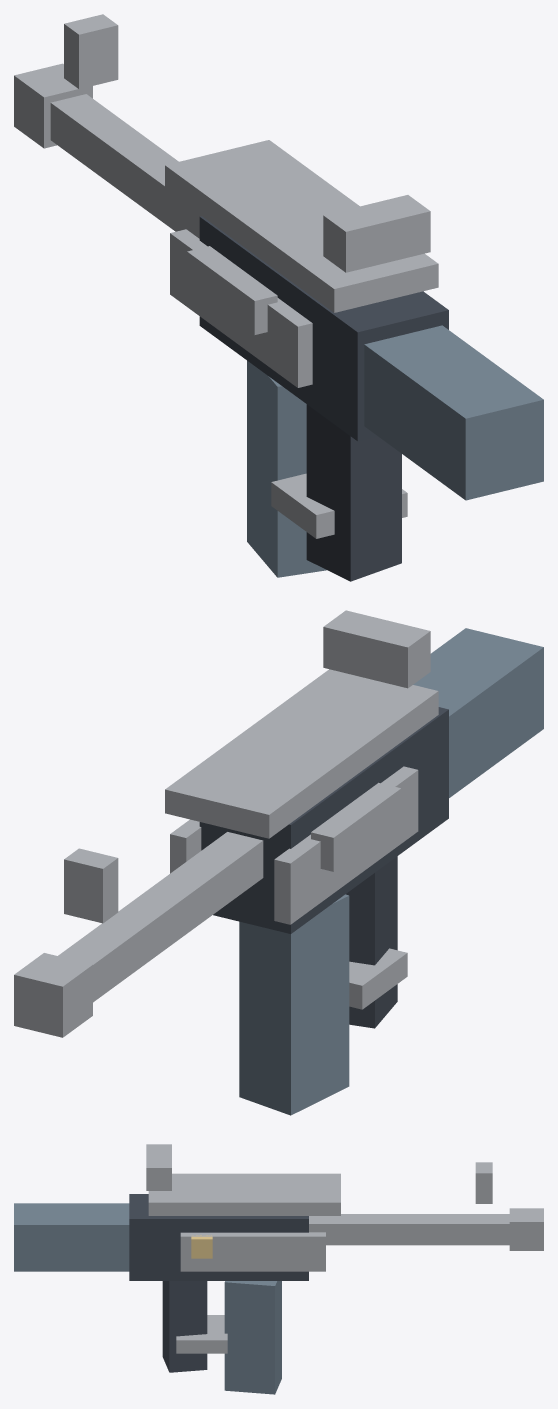
3 renders of one model, top to bottom at view 1: azimuth 30°, elevation 25°; view 2: azimuth 150°, elevation 25°; view 3: azimuth 270°, elevation 25°, orthographic. The views are drawn at different scales.
Visible parts, largest first — view 1: stock, top_rail, receiver, grip, magazine, barrel, side_panel_l, rear_sight, bolt, front_sight, muzzle, trigger_guard; view 2: top_rail, magazine, stock, barrel, receiver, side_panel_l, rear_sight, muzzle, grip, bolt, front_sight, trigger_guard (+1 smaller); view 3: stock, top_rail, receiver, magazine, barrel, side_panel_r, grip, muzzle, trigger_guard, rear_sight, front_sight, selector.
Part boxes in pixels (box(x1,y1,x2,y2)): stock: box(364, 325, 543, 500); top_rail: box(165, 140, 438, 312); receiver: box(199, 216, 448, 441); grip: box(306, 404, 401, 581); magazine: box(247, 360, 326, 577); barrel: box(50, 94, 201, 238); side_panel_l: box(170, 229, 312, 387); rear_sight: box(323, 195, 430, 272); bolt: box(187, 246, 277, 334); front_sight: box(64, 14, 118, 89); muzzle: box(14, 63, 92, 148); trigger_guard: box(271, 473, 407, 538); top_rail: box(165, 669, 438, 838); magazine: box(239, 894, 349, 1115); stock: box(413, 628, 543, 797); barrel: box(58, 832, 263, 1002); receiver: box(199, 707, 448, 933); side_panel_l: box(274, 766, 418, 924); rear_sight: box(323, 610, 430, 688); muzzle: box(14, 953, 92, 1037); grip: box(346, 856, 397, 1028); bolt: box(311, 782, 401, 871); front_sight: box(64, 848, 118, 923); trigger_guard: box(349, 948, 407, 1009); stock: box(14, 1203, 129, 1271); top_rail: box(148, 1173, 340, 1215); receiver: box(129, 1194, 308, 1280); magazine: box(224, 1281, 281, 1394); barrel: box(309, 1214, 509, 1245); side_panel_r: box(180, 1232, 325, 1271); grip: box(162, 1281, 207, 1372); muzzle: box(509, 1208, 543, 1250); trigger_guard: box(176, 1315, 227, 1353); rear_sight: box(146, 1144, 171, 1190); front_sight: box(475, 1162, 492, 1203); selector: box(191, 1235, 212, 1258).
Size of the model in its own units: 0.22 by 0.59 by 1.24.
